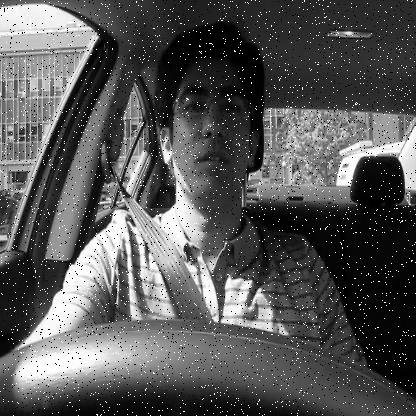seatbelt: (102, 14, 278, 416)
